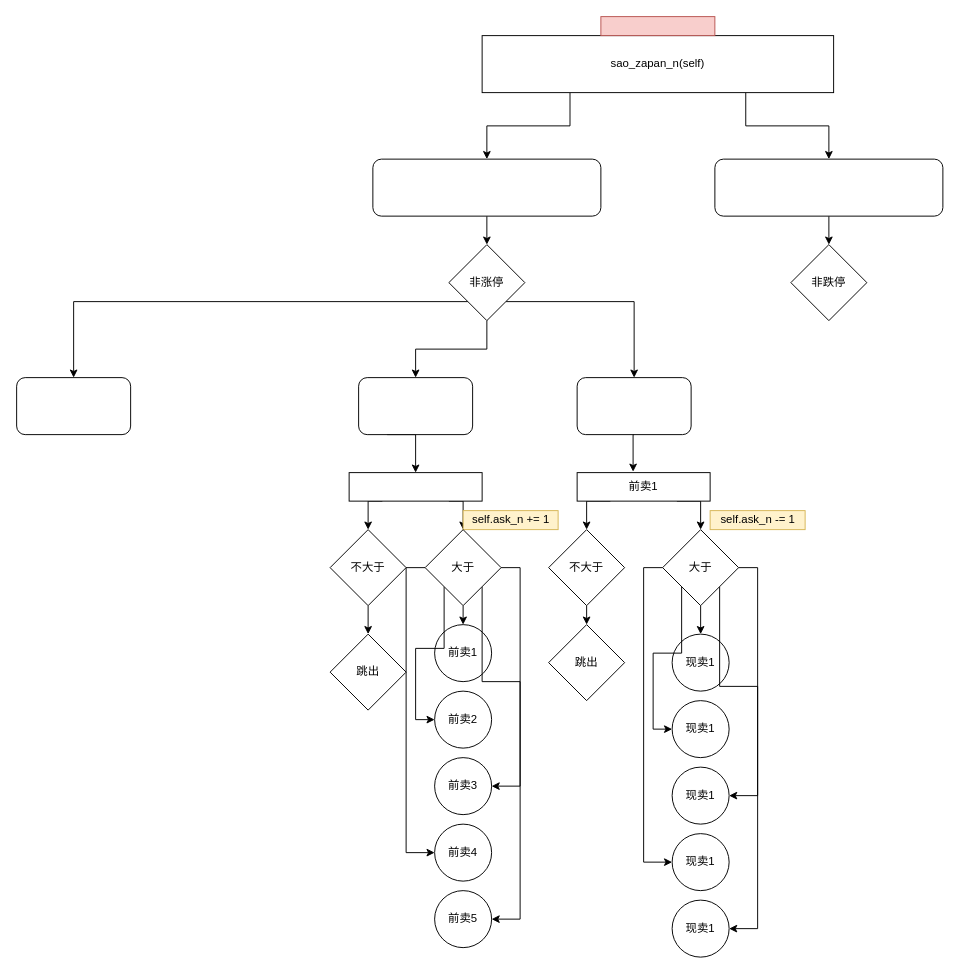
This 960x974 diagram has some shape labels left out. Each missing label, with the centre of its shape:
"买盘 bid_arr" belongs at (828,187).
"卖1" belongs at (415,486).
"卖1大于前卖1" belongs at (415,406).
"卖1小于前卖1" belongs at (633,406).
"卖1等于前卖1" belongs at (73,406).
"卖盘 ask_arr" belongs at (486,187).
"对扫档和砸盘的判断" belongs at (657,26).
